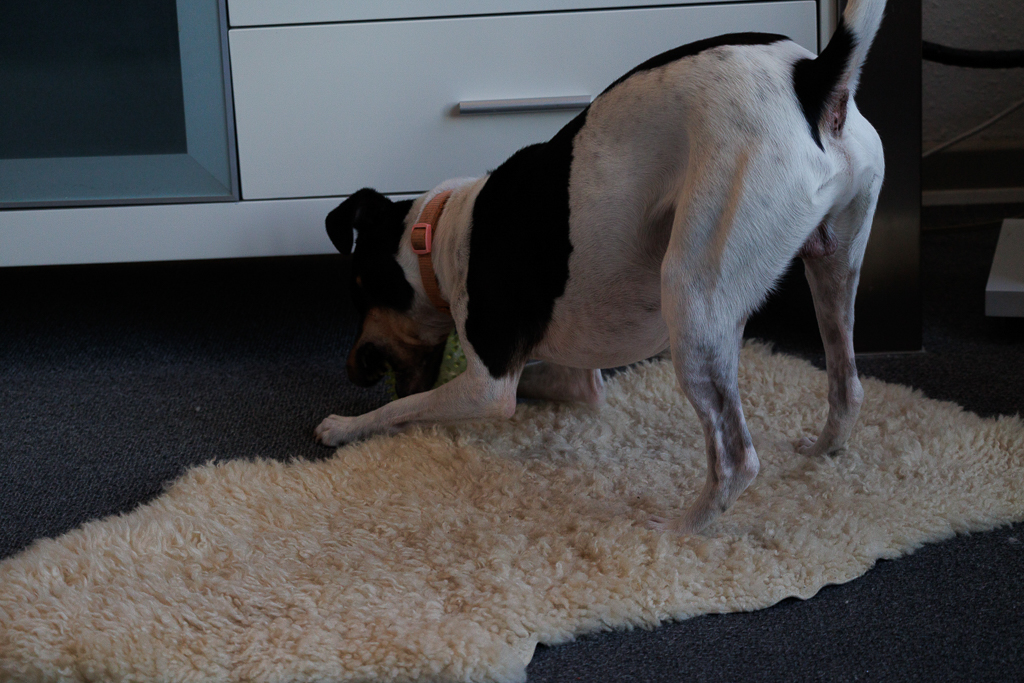Dog: (305, 0, 893, 542)
